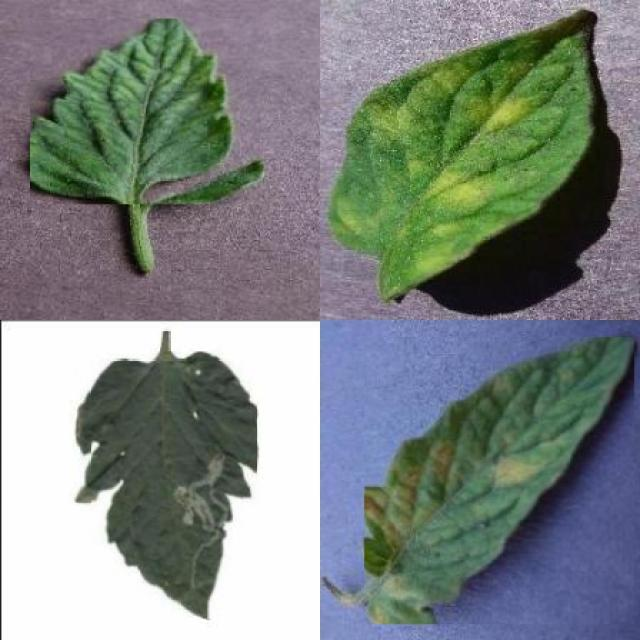Leaf Miner: (72, 352, 258, 618)
Leaf Mold: (326, 7, 597, 300), (364, 337, 634, 624)
Mosaic Virus: (31, 19, 265, 204)
